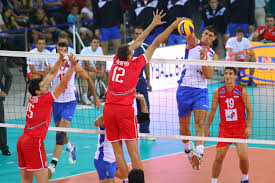ball: (177, 20, 194, 36)
